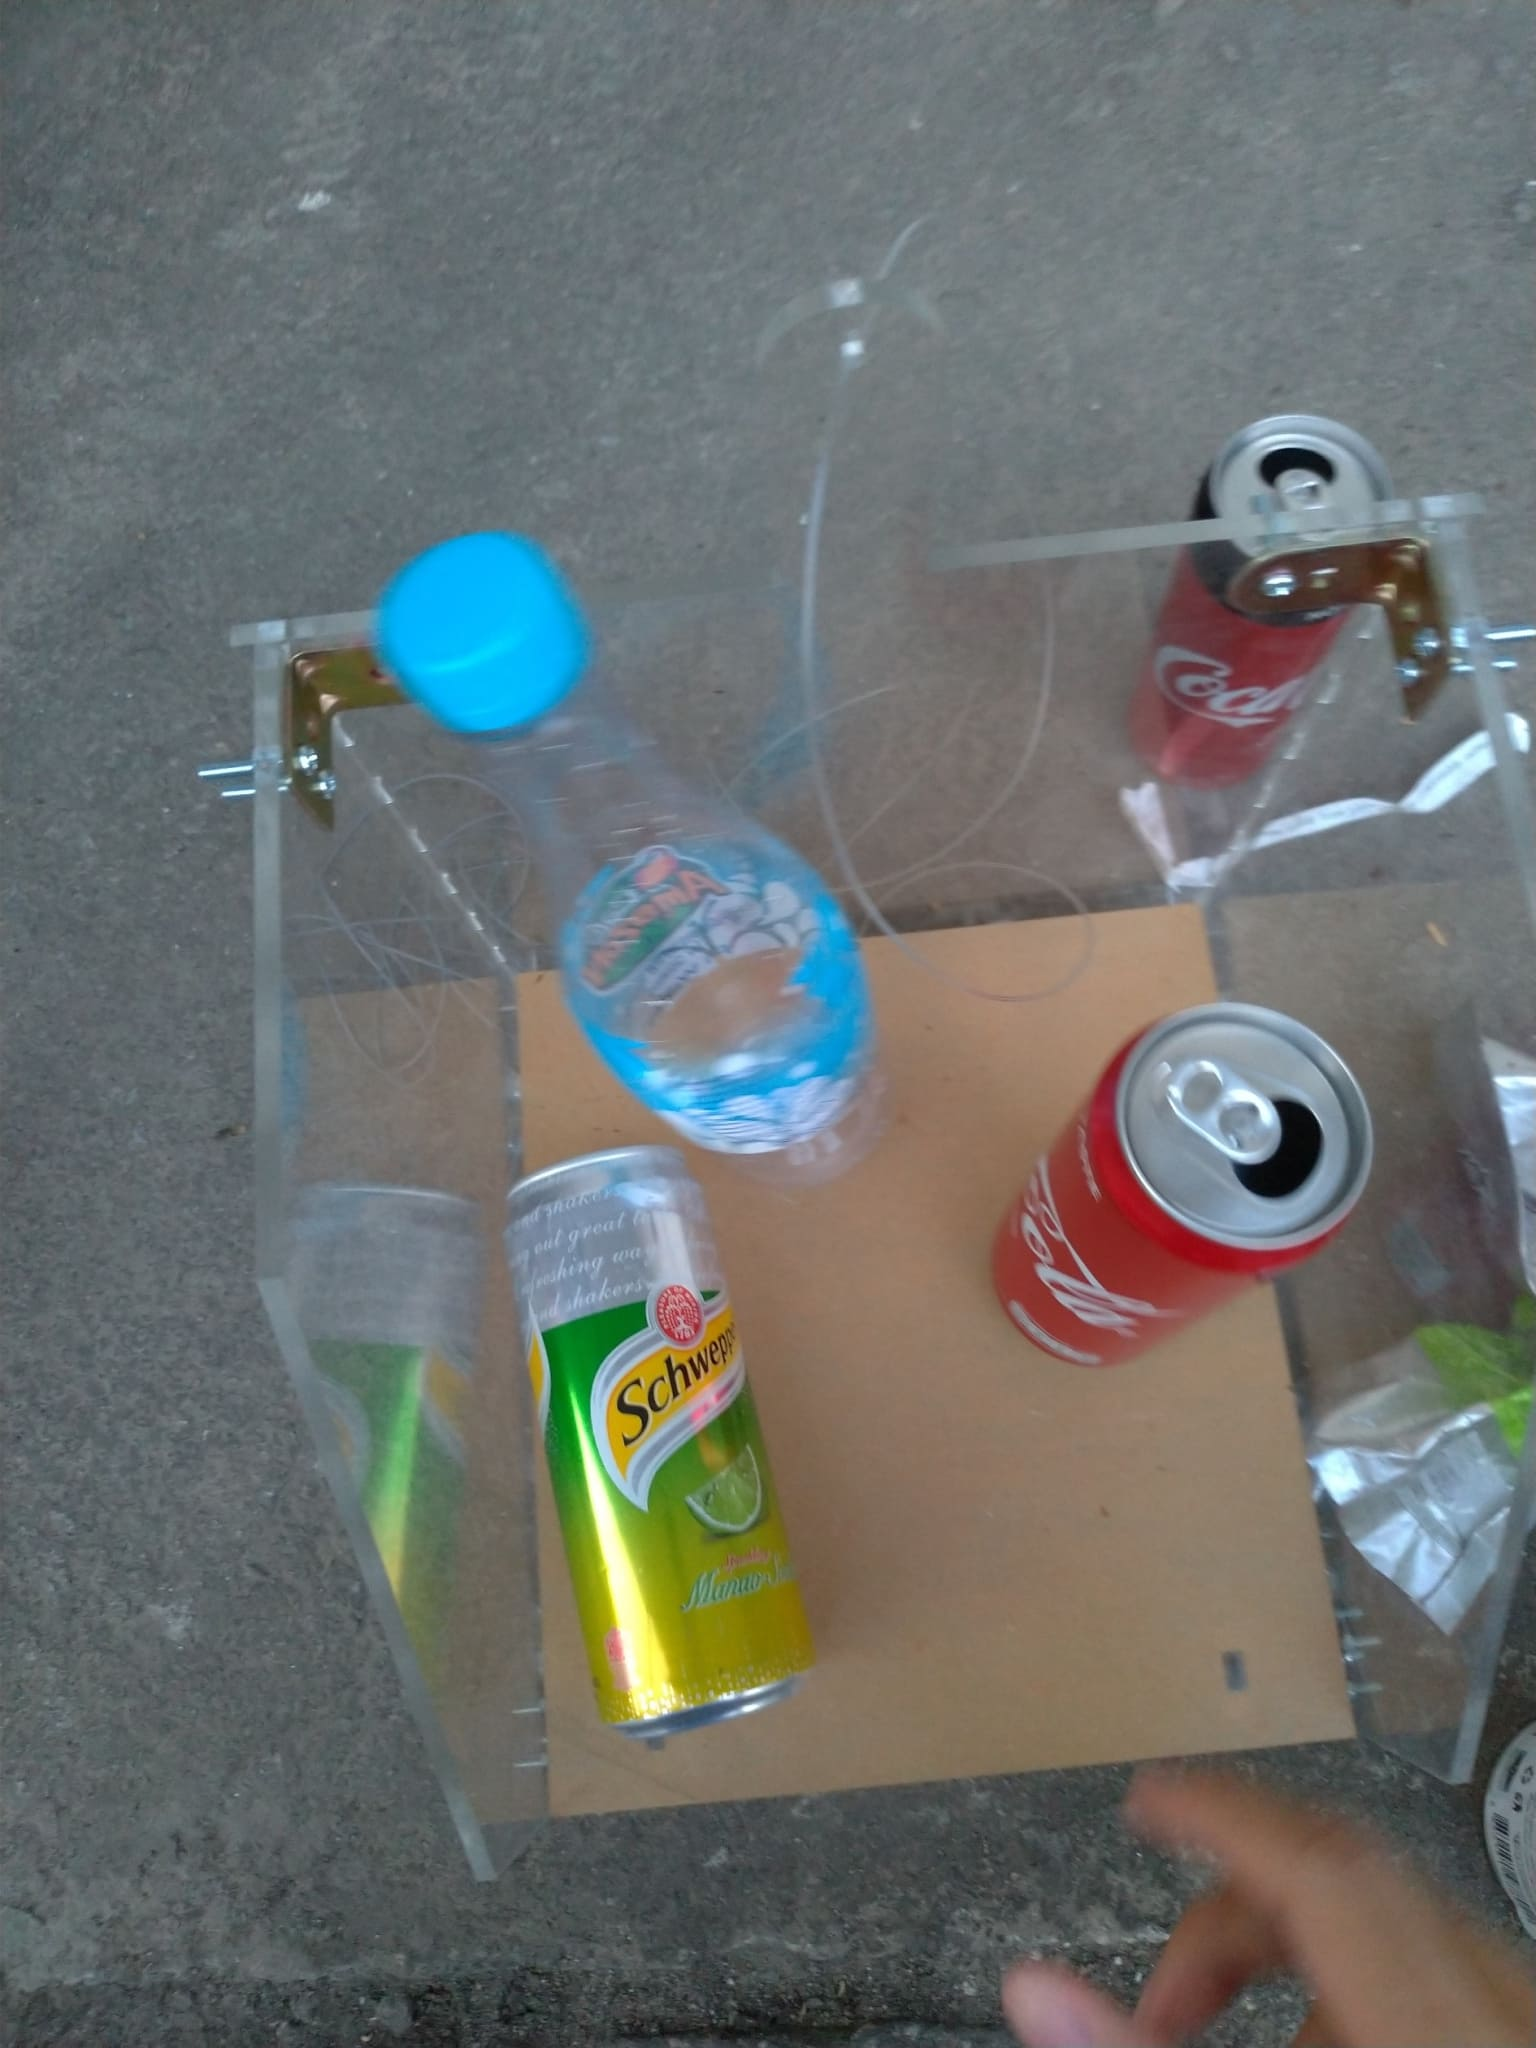AlCan: (500, 1161, 807, 1745), (991, 998, 1383, 1367), (1133, 411, 1400, 792)
Others: (1321, 1030, 1536, 1625)
PlasticBottle: (369, 527, 900, 1185)
